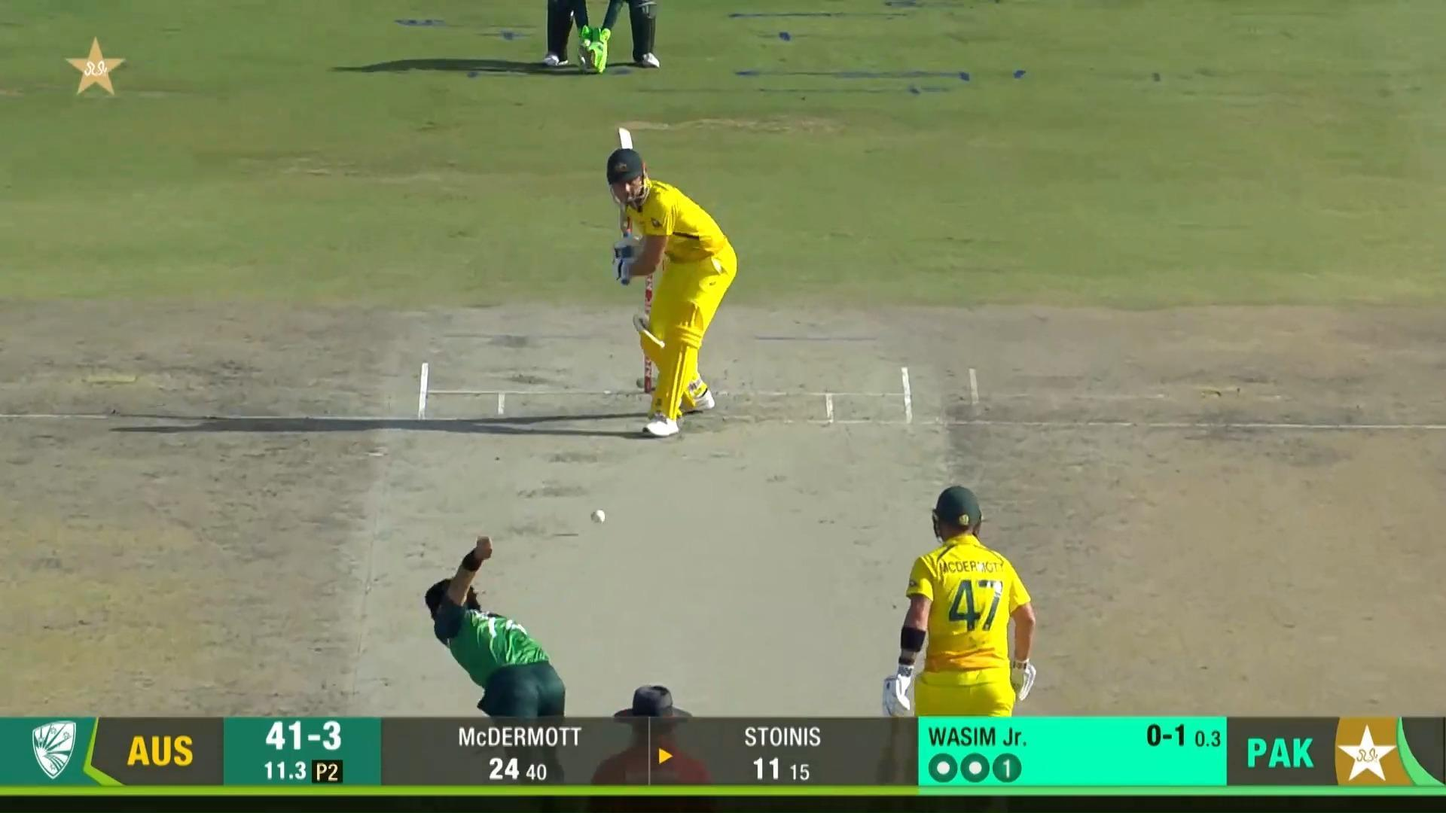BM 1: (606, 128, 737, 438)
BO: (424, 531, 568, 791)
